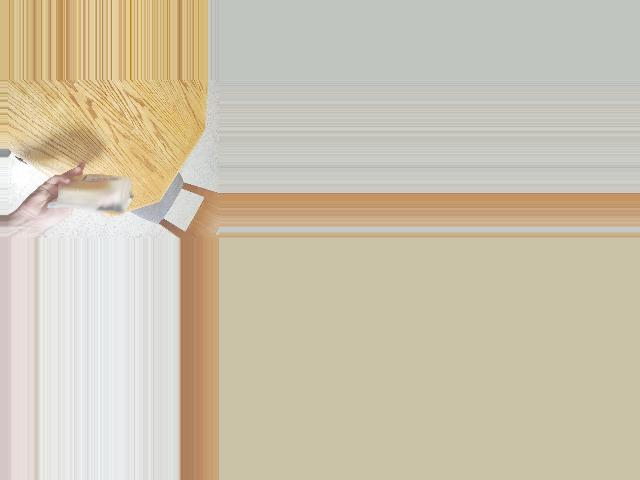cheese: (55, 165, 130, 220)
